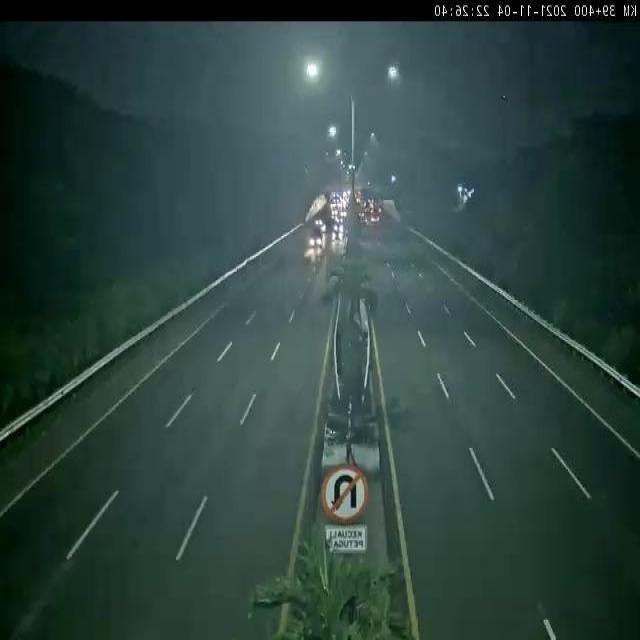Car: (306, 226, 323, 253), (326, 230, 346, 250)
